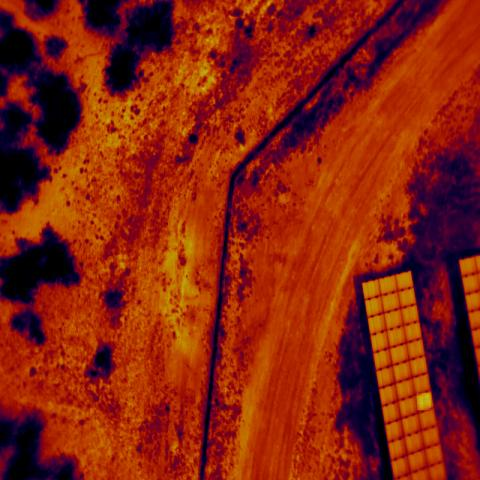fault: (417, 393, 431, 410)
